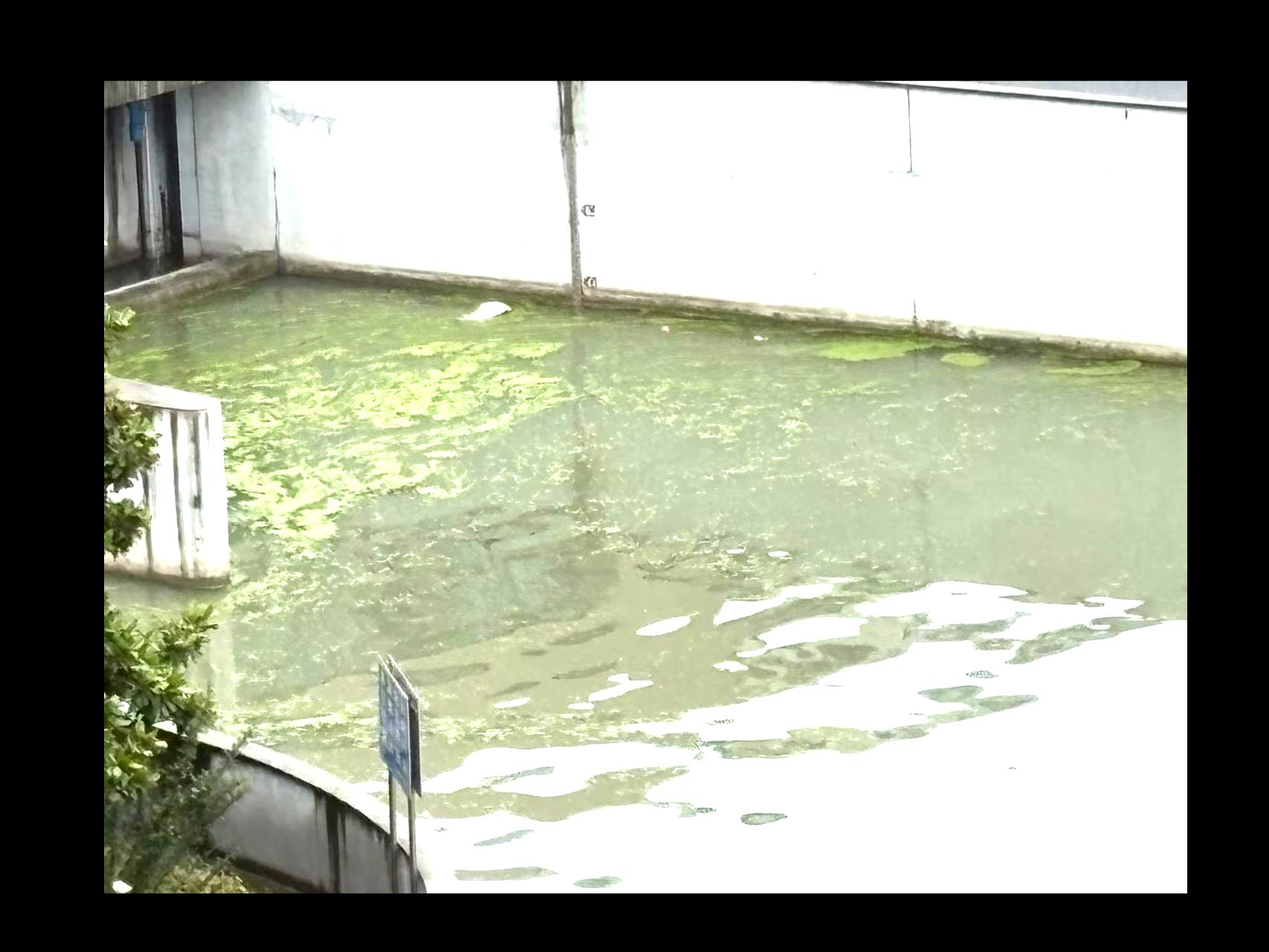Other: (229, 419, 353, 535), (372, 370, 564, 416), (297, 305, 451, 361), (225, 360, 357, 411), (825, 333, 1003, 368), (1056, 358, 1135, 375)
Plastic wastes: (463, 298, 511, 322)
